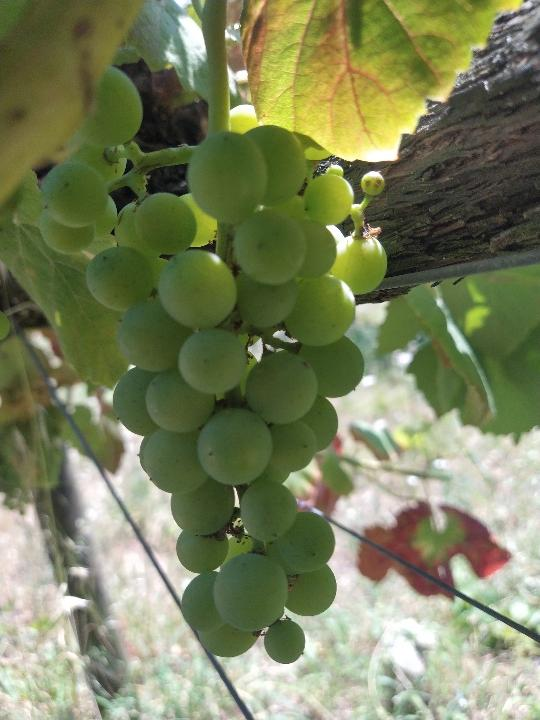grape: (38, 64, 390, 665)
